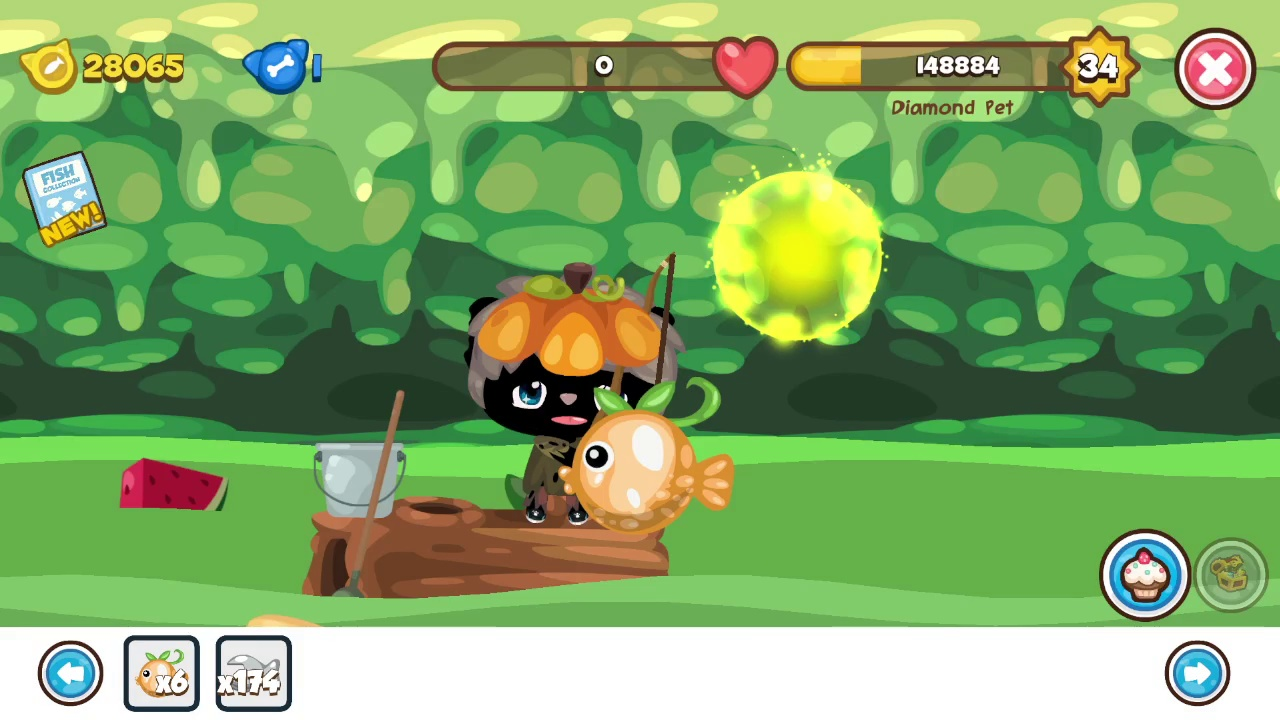point: (712, 169, 887, 344)
